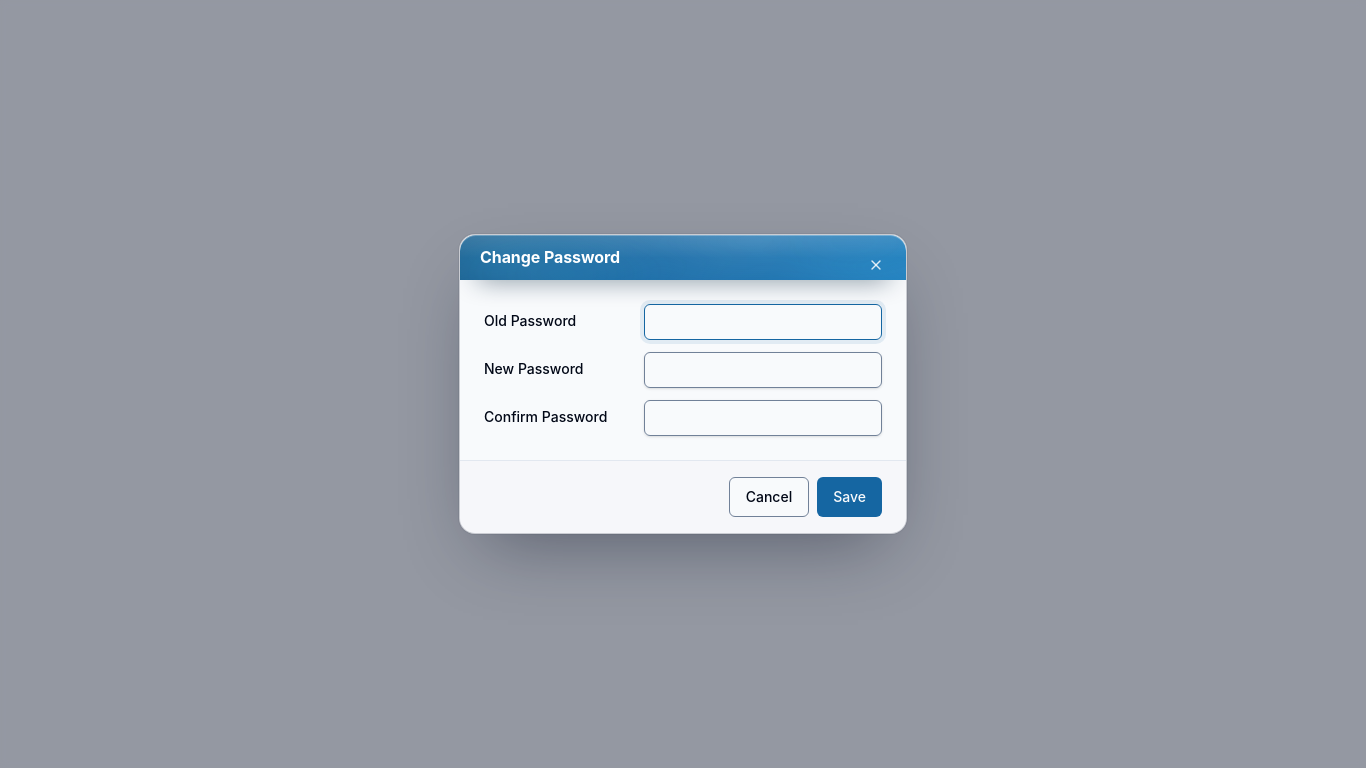
Scenario: ChangePasswordDialog › checks the rules before sending anything
Click the button "Save" at point(850, 497), box [817,477,882,517]
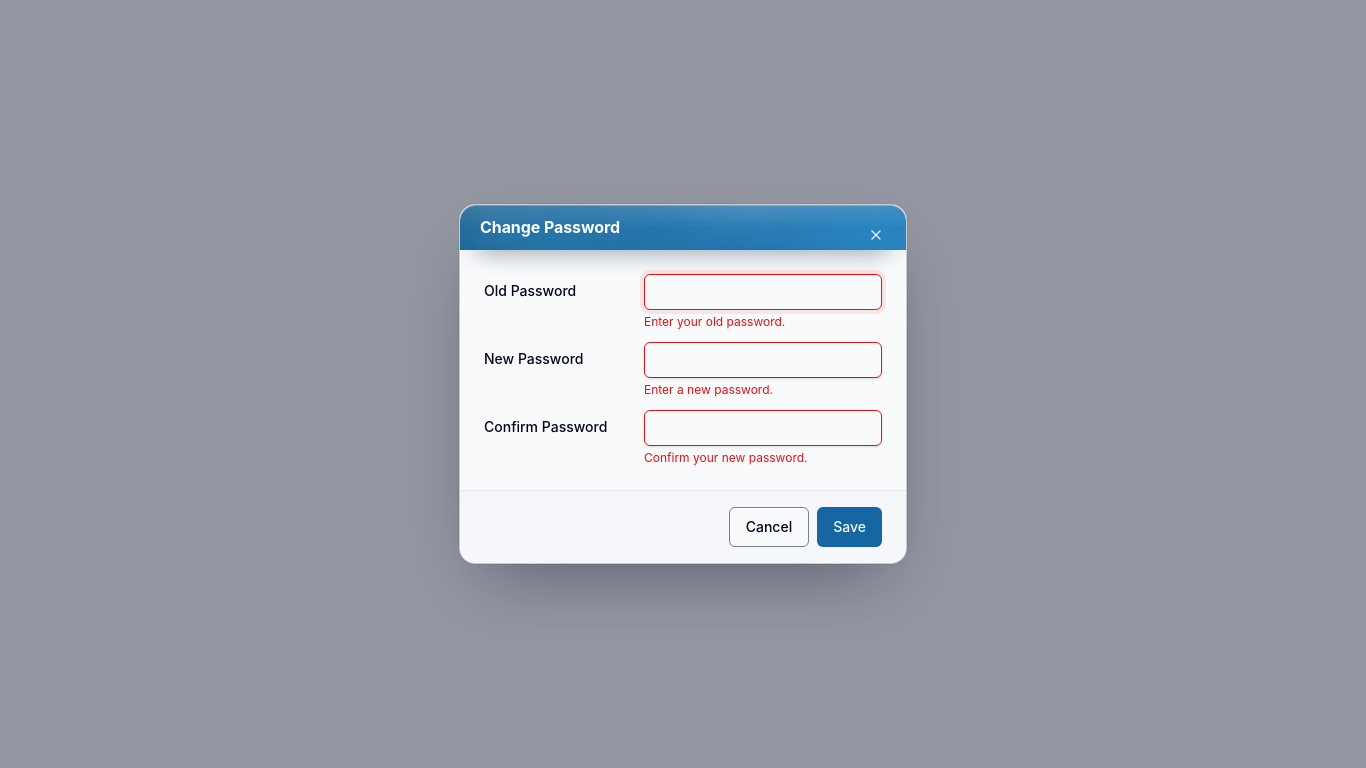
Expected: the text "Enter your old password." is shown, [644,314,785,329]
Expected: the text "Enter a new password." is shown, [644,382,773,397]
Expected: the text "Confirm your new password." is shown, [644,450,808,465]
